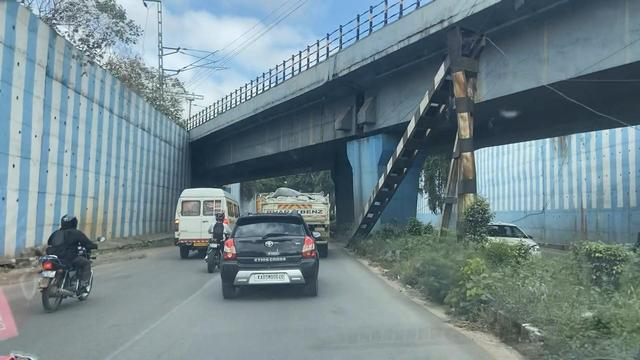HMV: (181, 187, 239, 253)
LMV: (221, 209, 324, 299), (33, 213, 108, 317), (204, 209, 230, 275)
